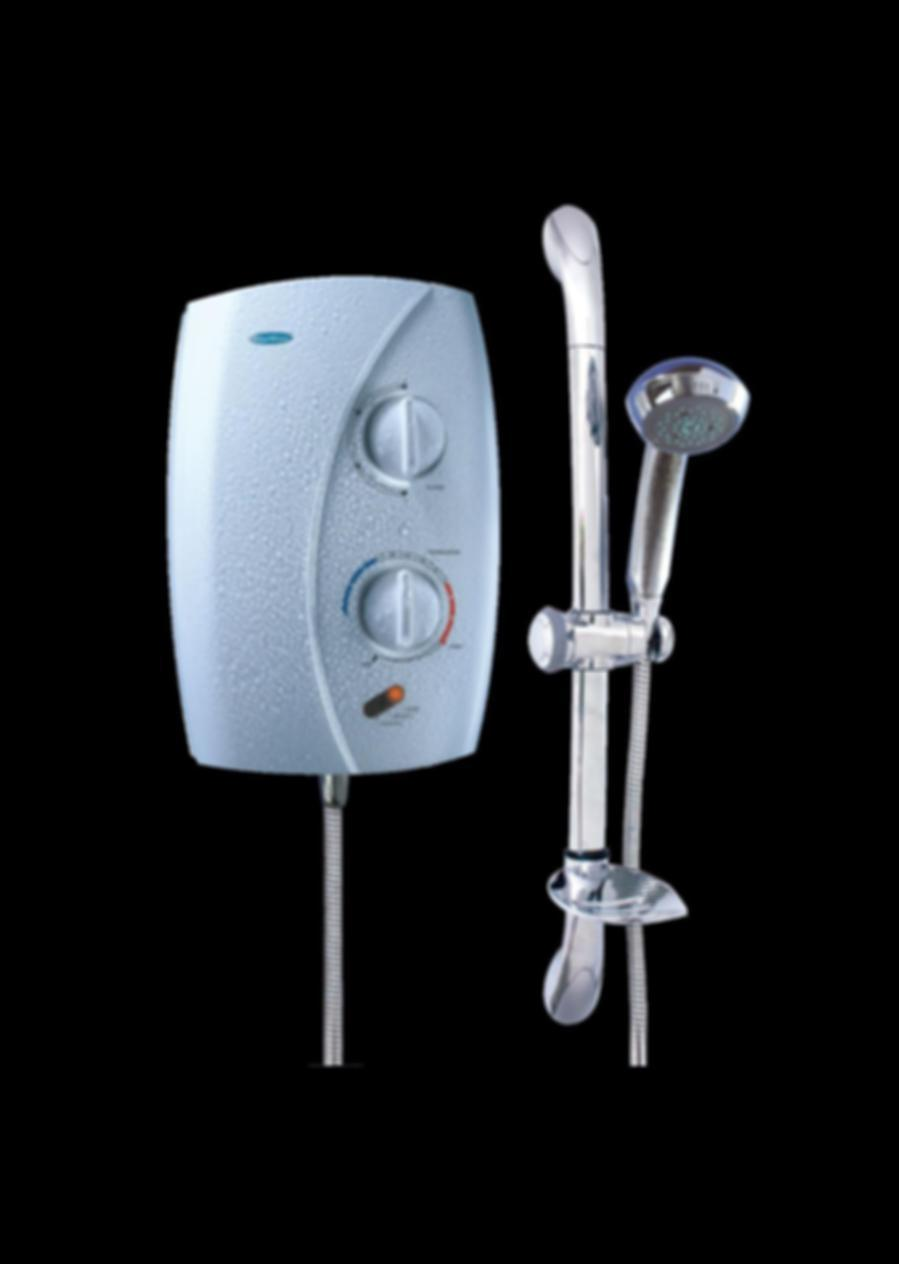Ducha: (141, 198, 758, 1065)
